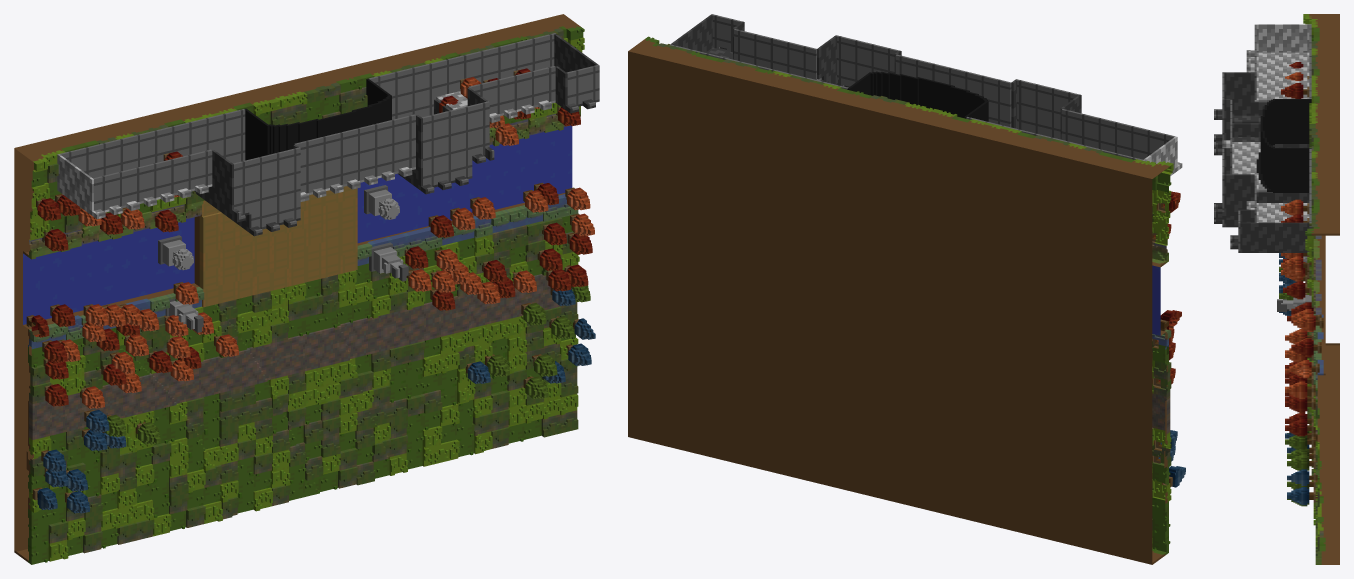
3 renders of one model, left to right at view 1: azimuth 30°, elevation 25°; view 2: azimuth 150°, elevation 25°; view 3: azimuth 270°, elevation 25°, orthographic. The views are drawn at different scales.
Bounding box in the file's own units: 25.6 × 18 × 6.2.
